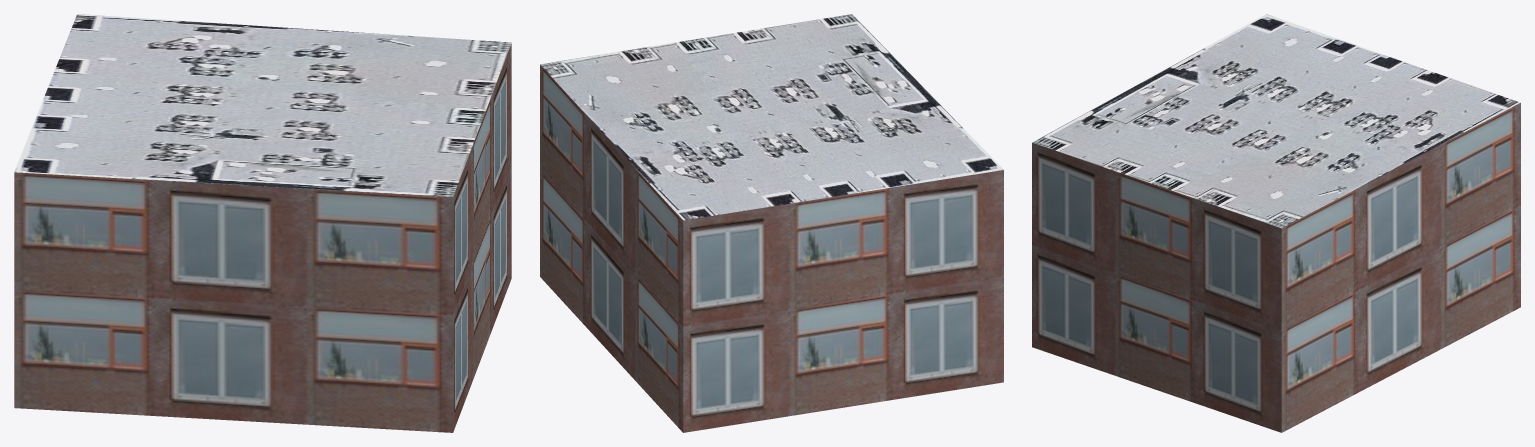
The model's file is ResTex__1307.fbx.
The picture shows the model from 3 angles, left to right: view 1: azimuth 30°, elevation 25°; view 2: azimuth 150°, elevation 25°; view 3: azimuth 270°, elevation 25°; orthographic projection. The views are drawn at different scales.
Visible parts, largest first — view 1: CityEngineMaterial_19_m, CityEngineMaterial_15_m; view 2: CityEngineMaterial_19_m, CityEngineMaterial_15_m; view 3: CityEngineMaterial_19_m, CityEngineMaterial_15_m.
Boxes of the visible parts, <box> form: CityEngineMaterial_19_m: <box>14,43,511,432</box>; CityEngineMaterial_15_m: <box>14,14,511,197</box>; CityEngineMaterial_19_m: <box>540,64,1003,432</box>; CityEngineMaterial_15_m: <box>540,14,1003,220</box>; CityEngineMaterial_19_m: <box>1032,103,1520,432</box>; CityEngineMaterial_15_m: <box>1032,14,1520,228</box>.
Size of the model in its own units: 13.48 by 6 by 12.99.
Materials: 2 (2 with a texture image).
